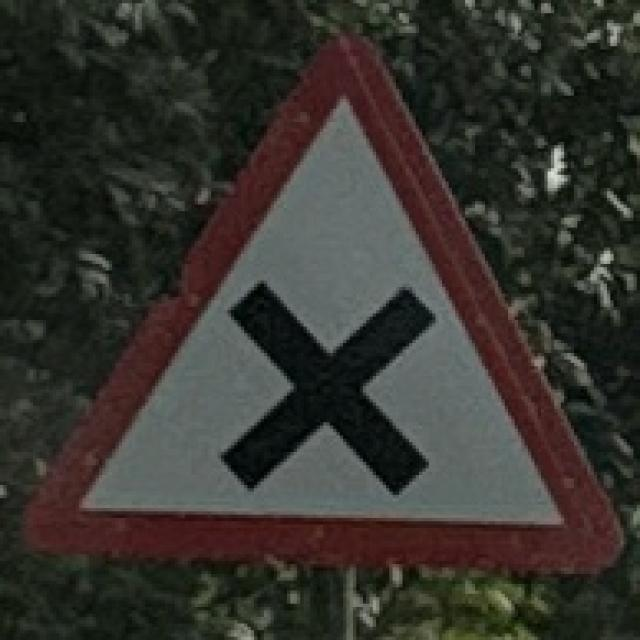CROSS_ROAD: (13, 15, 632, 587)
